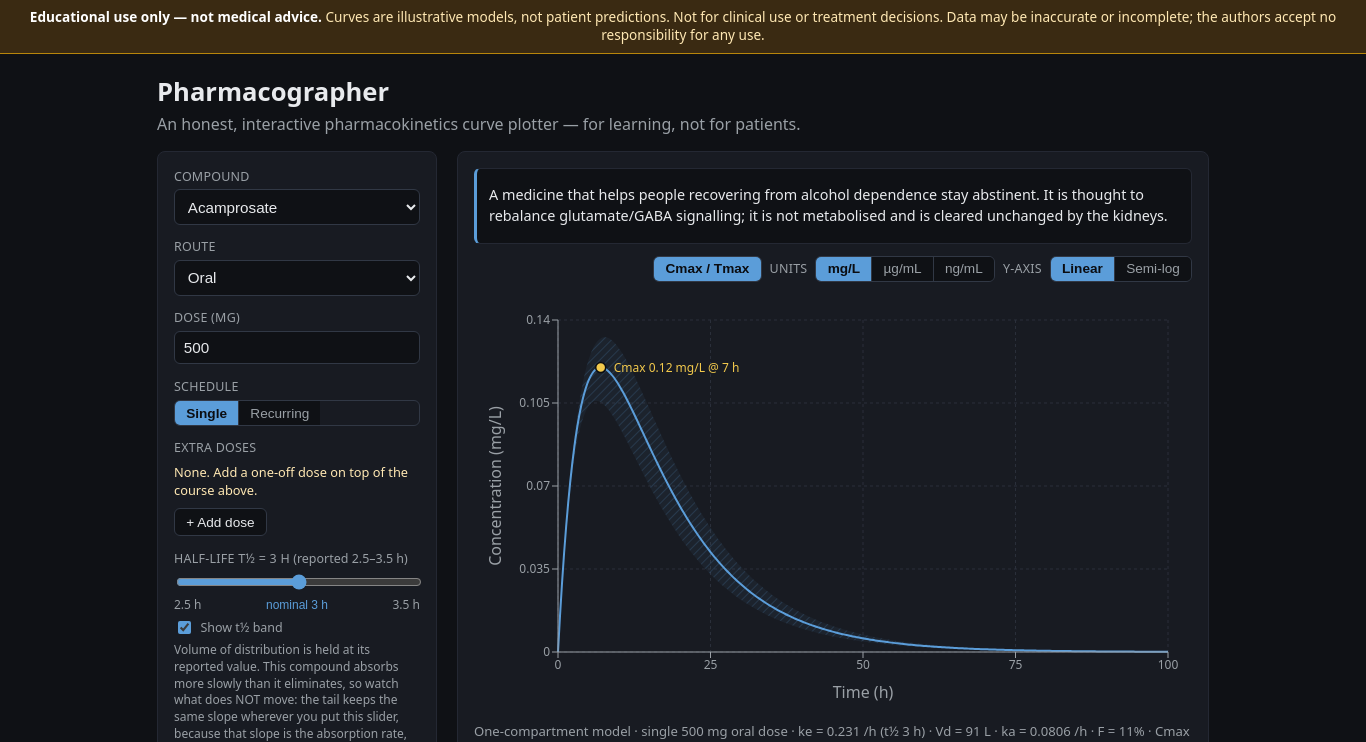
Test: phenotype picker, wired through App › resets to the default population when the compound changes
Select "Procainamide" in the dropdown with class "control__input" showing "Compound": (297, 207) [174,190,420,225]
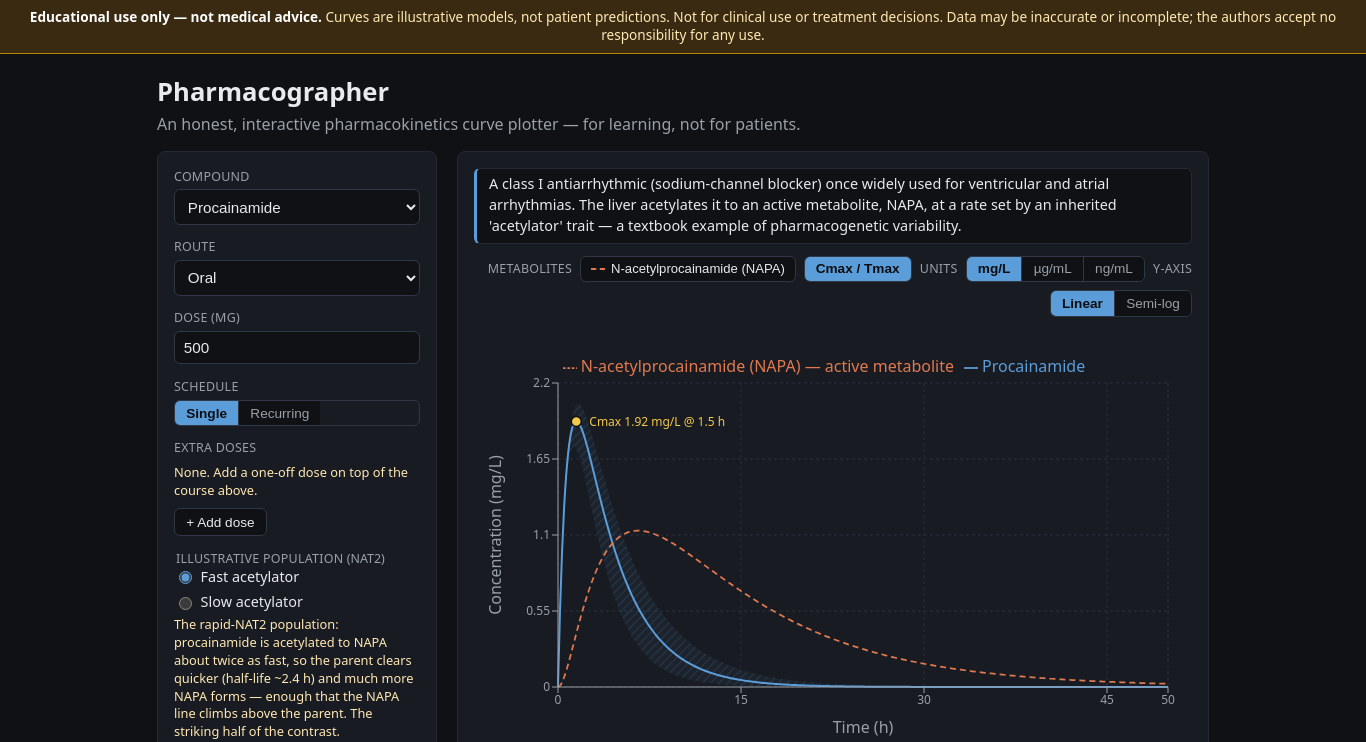
Click the radio button labelled "Slow acetylator": (186, 603) [179,597,192,610]
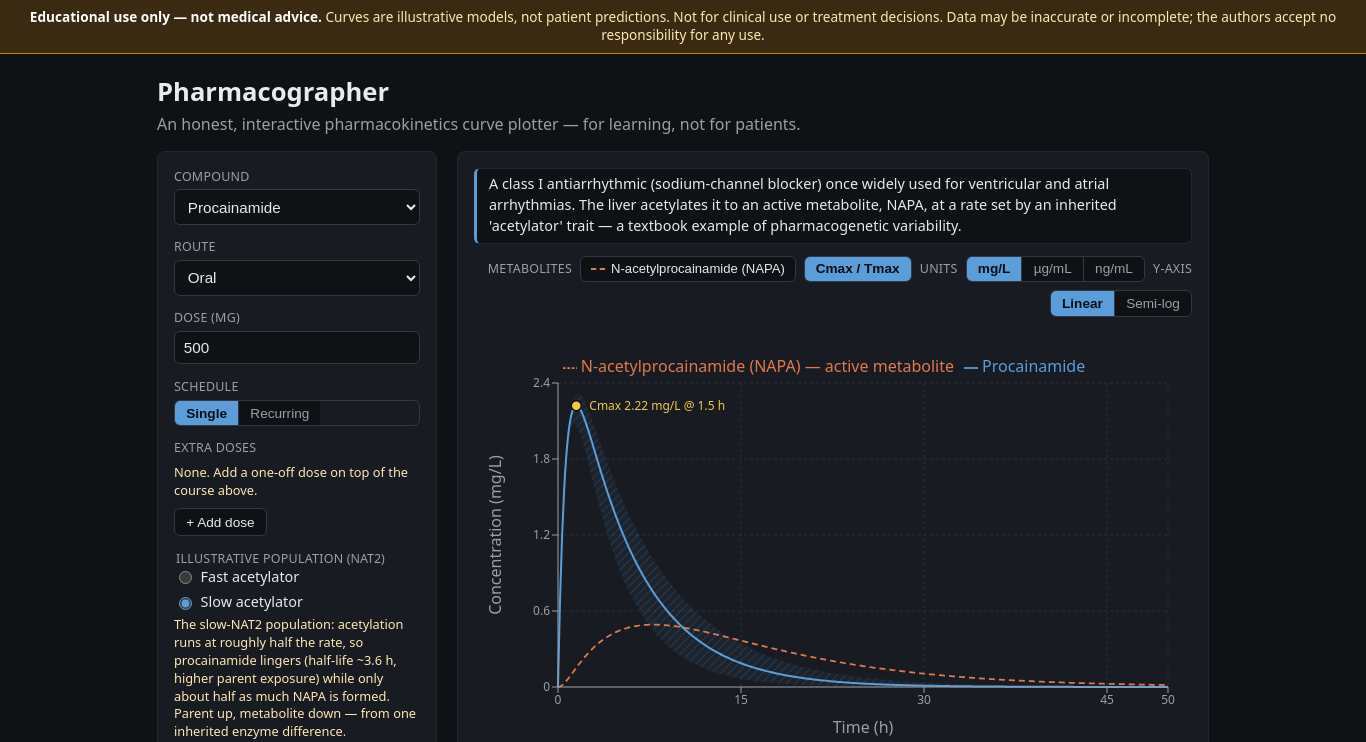
Now the radio button labelled "Slow acetylator" is checked, box [179,597,192,610]
Select "Warfarin" in the dropdown with class "control__input" showing "Compound": (297, 207) [174,190,420,225]
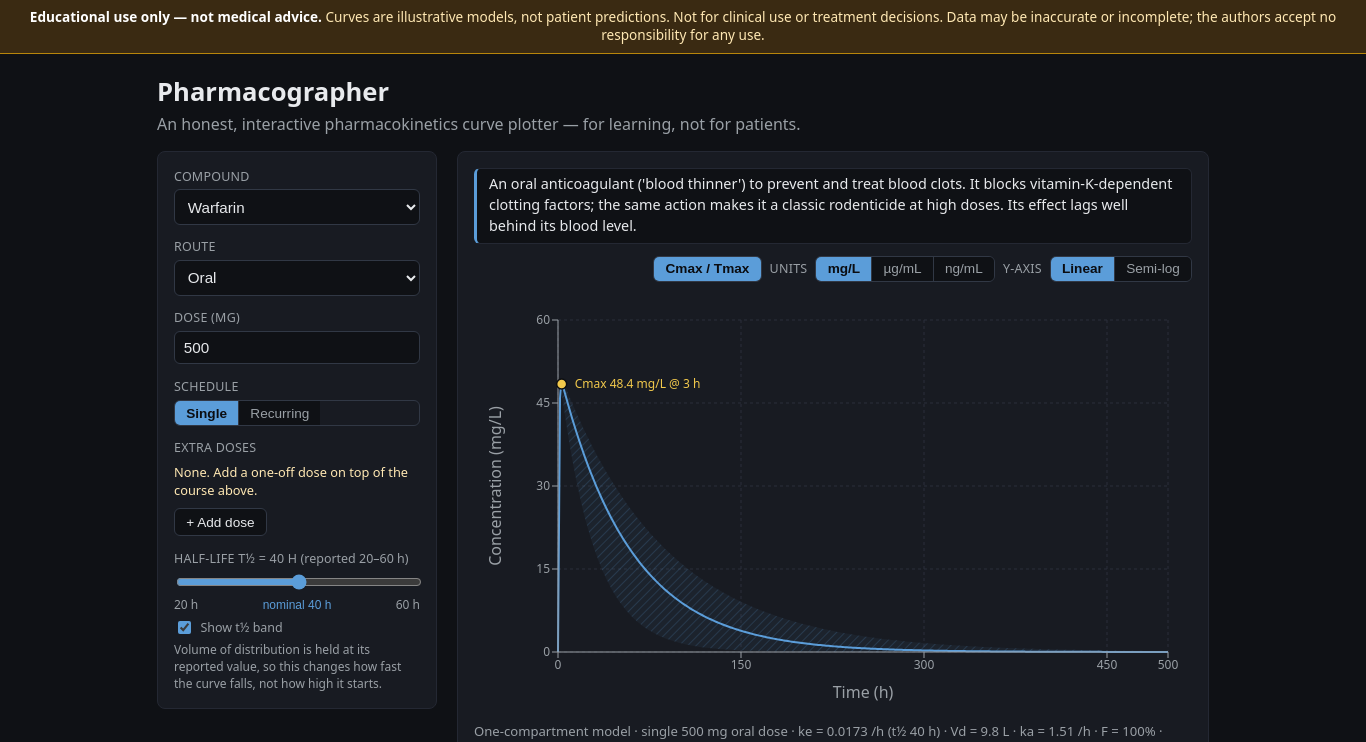
Select "Procainamide" in the dropdown with class "control__input" showing "Compound": (297, 207) [174,190,420,225]
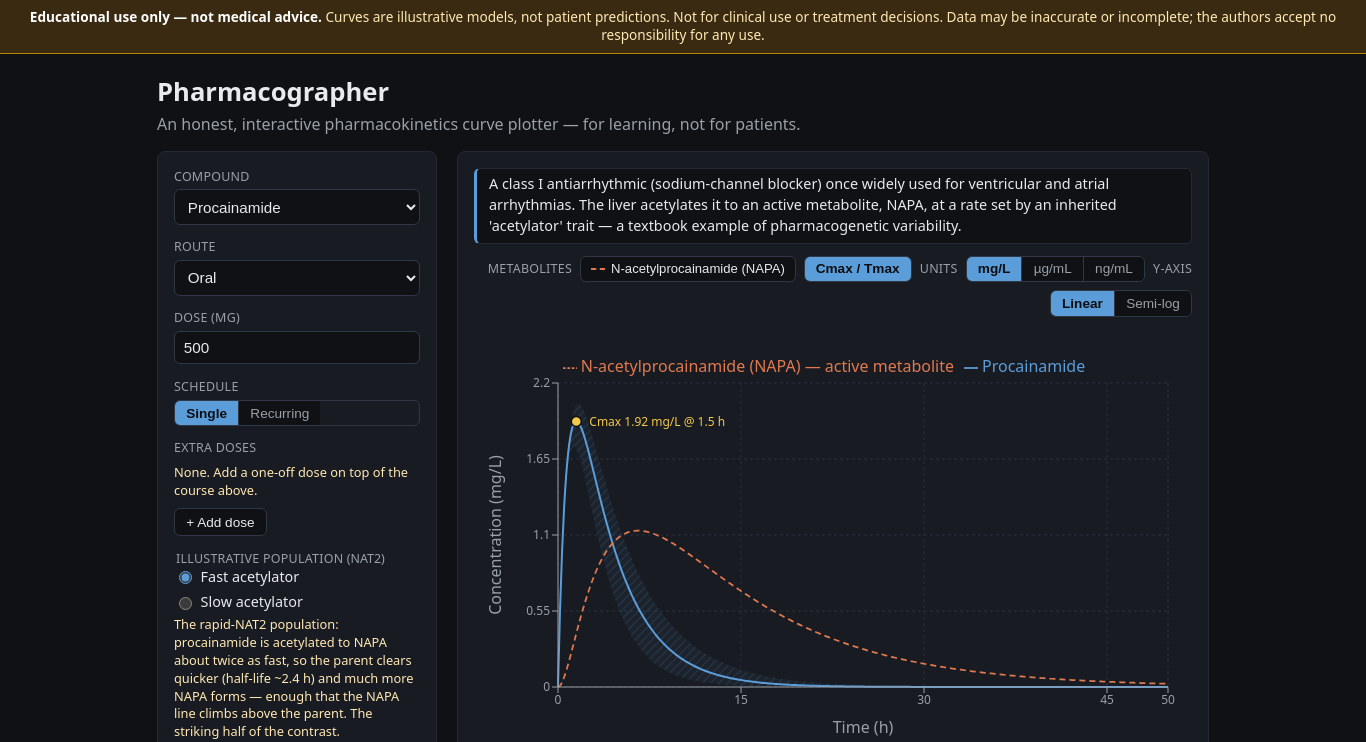
Now the radio button labelled "Fast acetylator" is checked, box [179,571,192,584]
